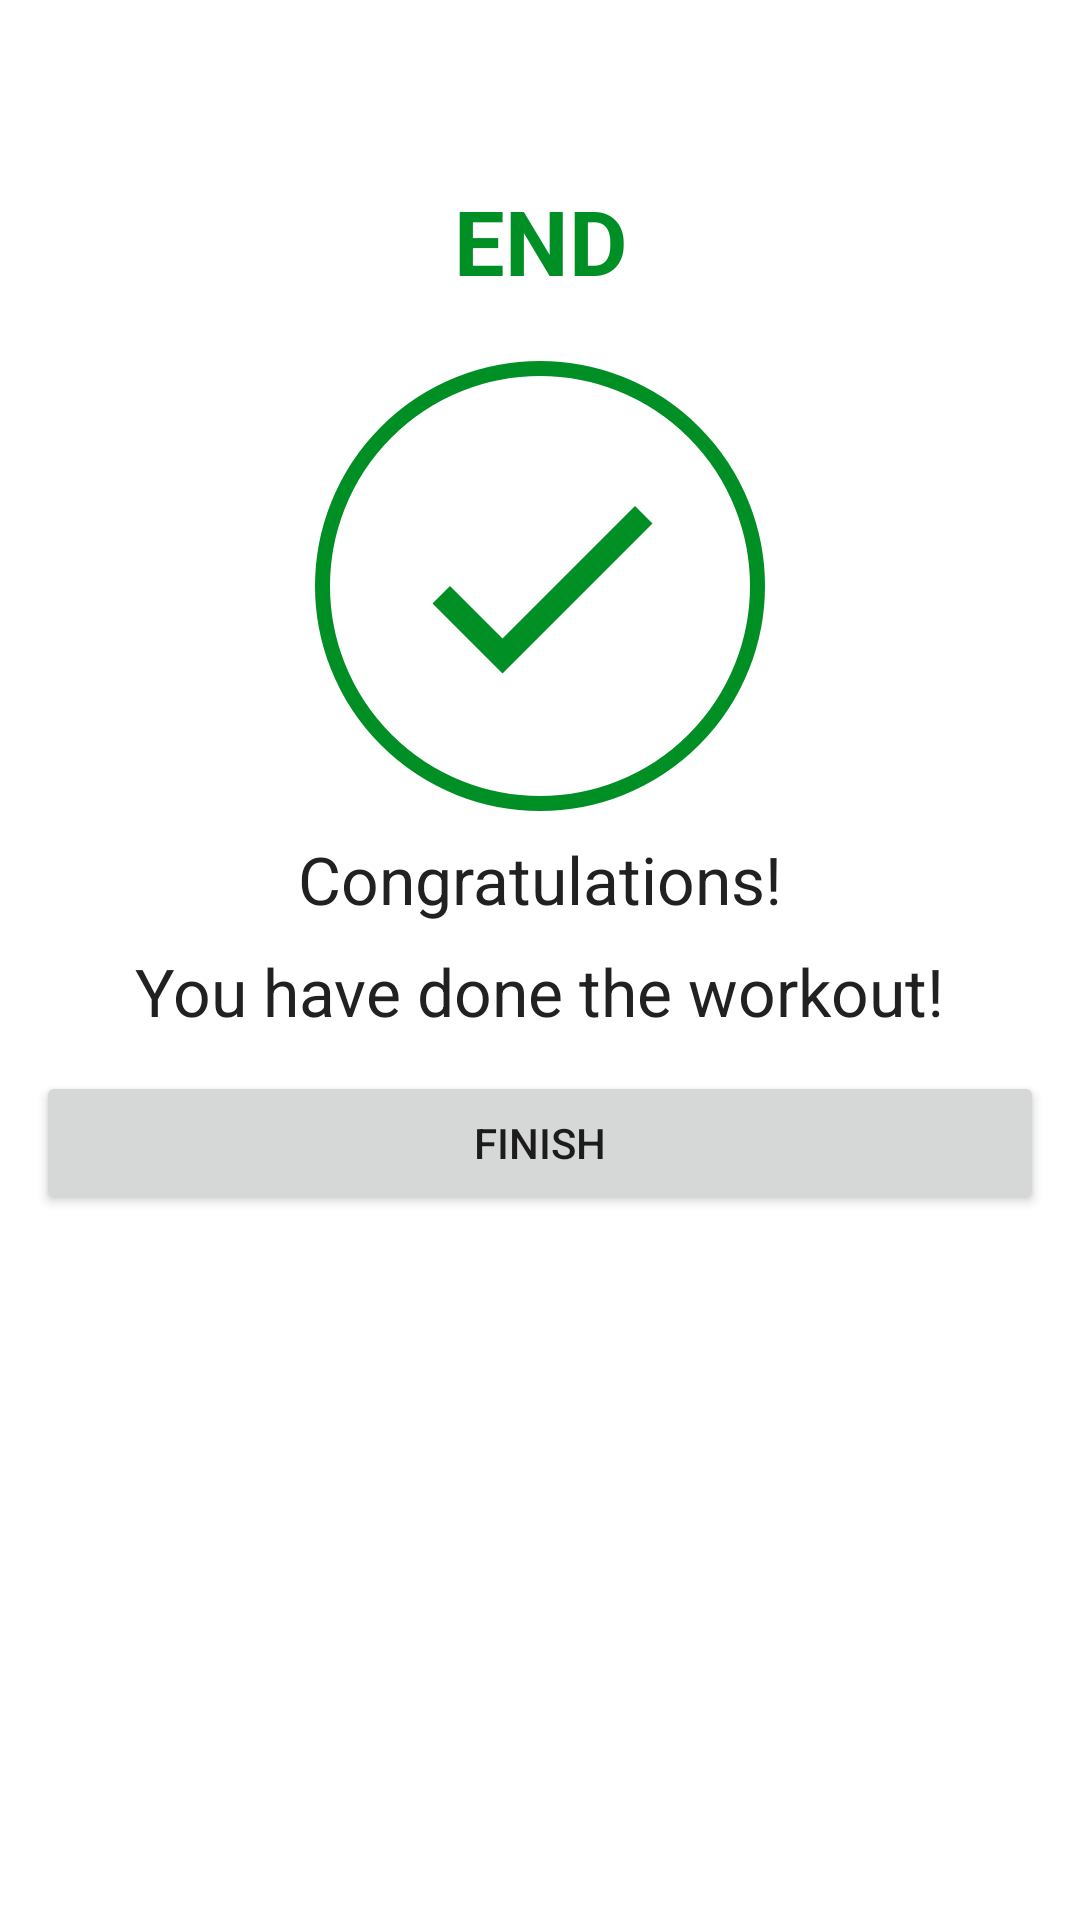

Point at icon controls on the screen. Image size 1080 × 1920, points as (x=x, y=y).
done: (x=542, y=590)
